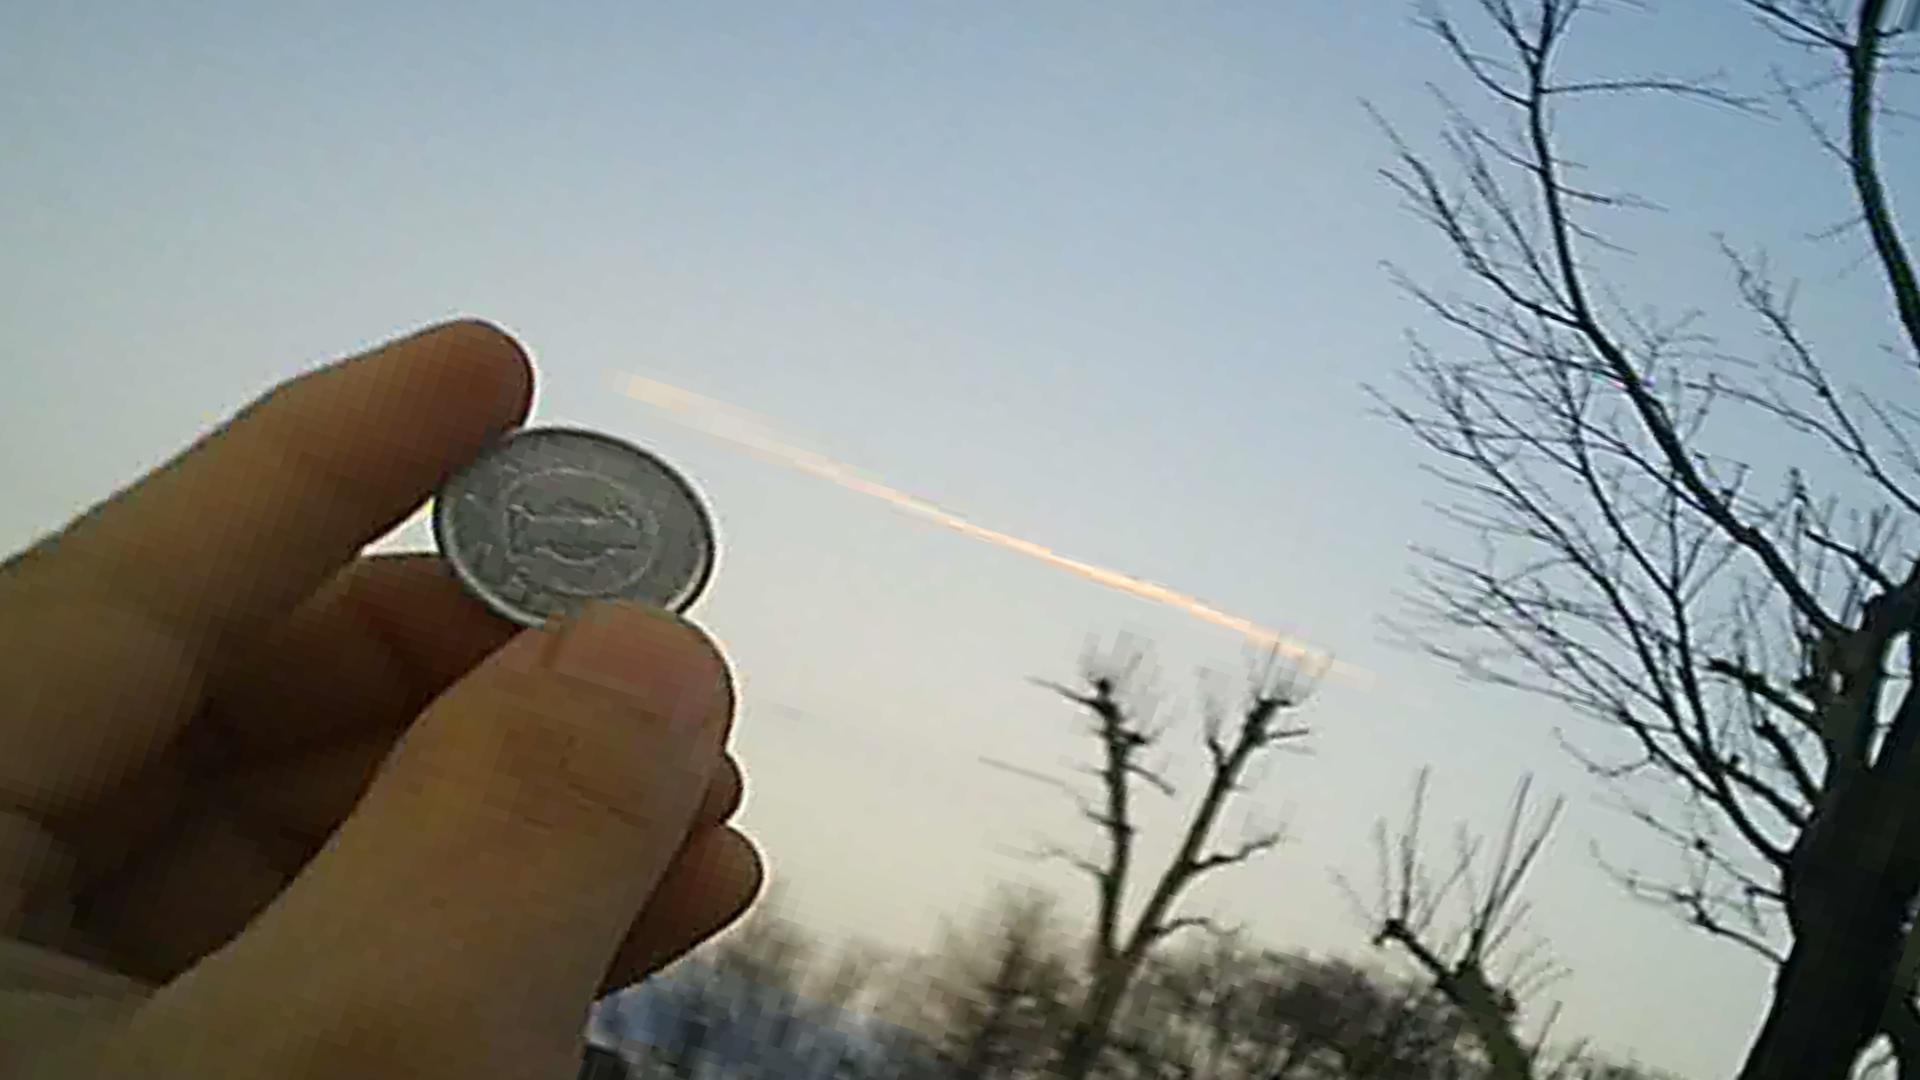1 Yen: (429, 402, 729, 649)
